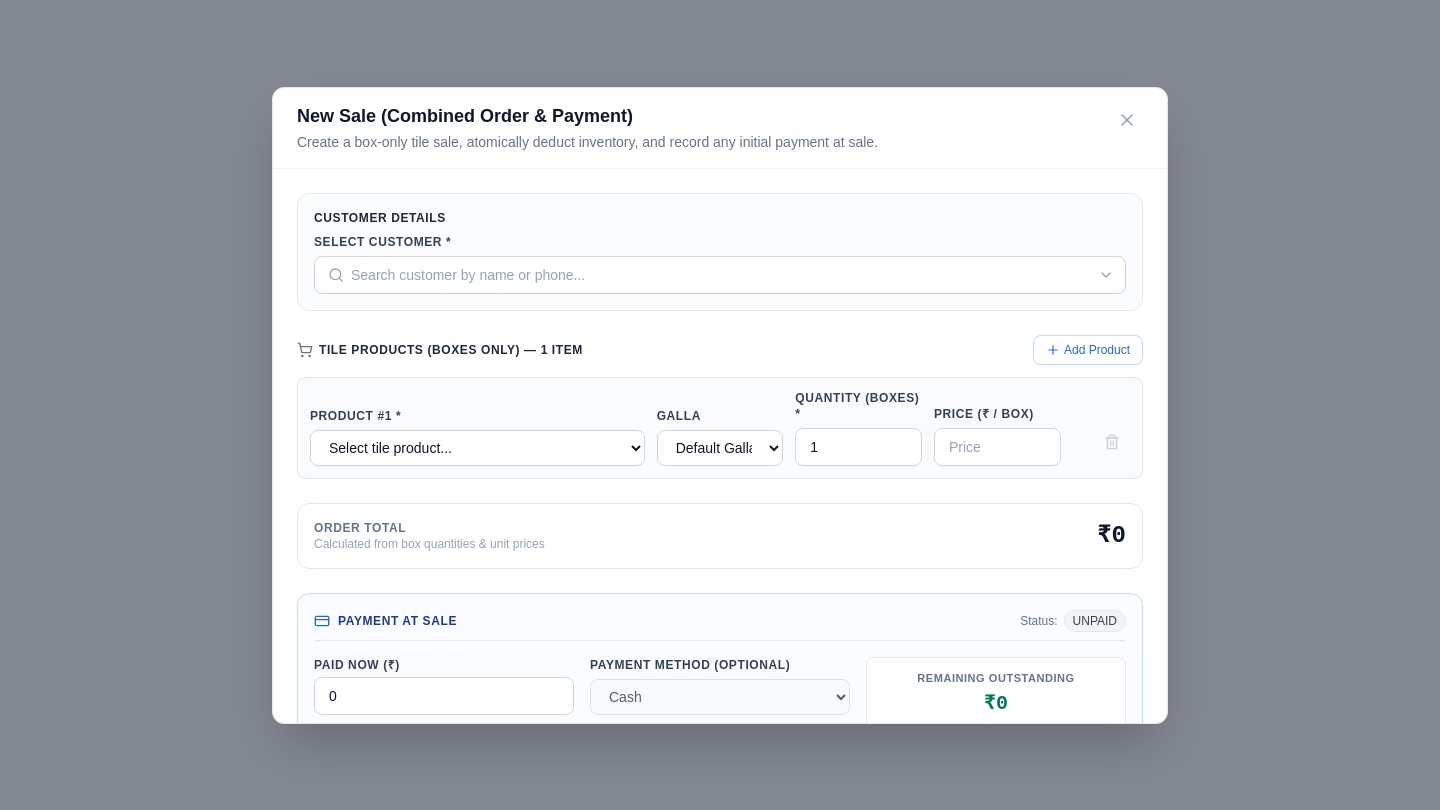
OrderCreateModal Component › Customer Searchable Select UX › selects filtered customer on click and updates field
In the dropdown labelled "Select Customer *": point(720, 274) [314, 256, 1126, 294], type "verma"
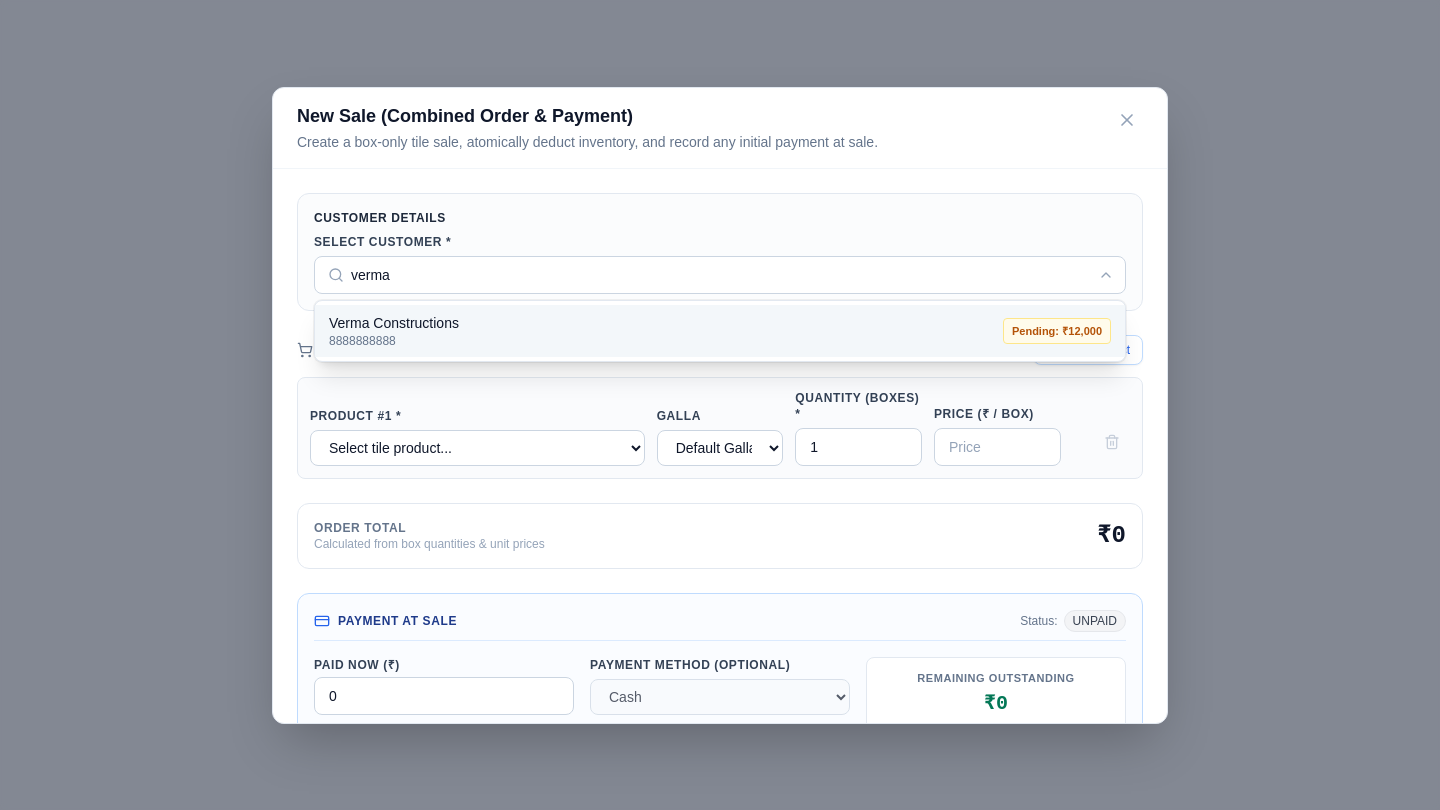
Click the text "Verma Constructions": point(394, 322) [329, 312, 459, 332]
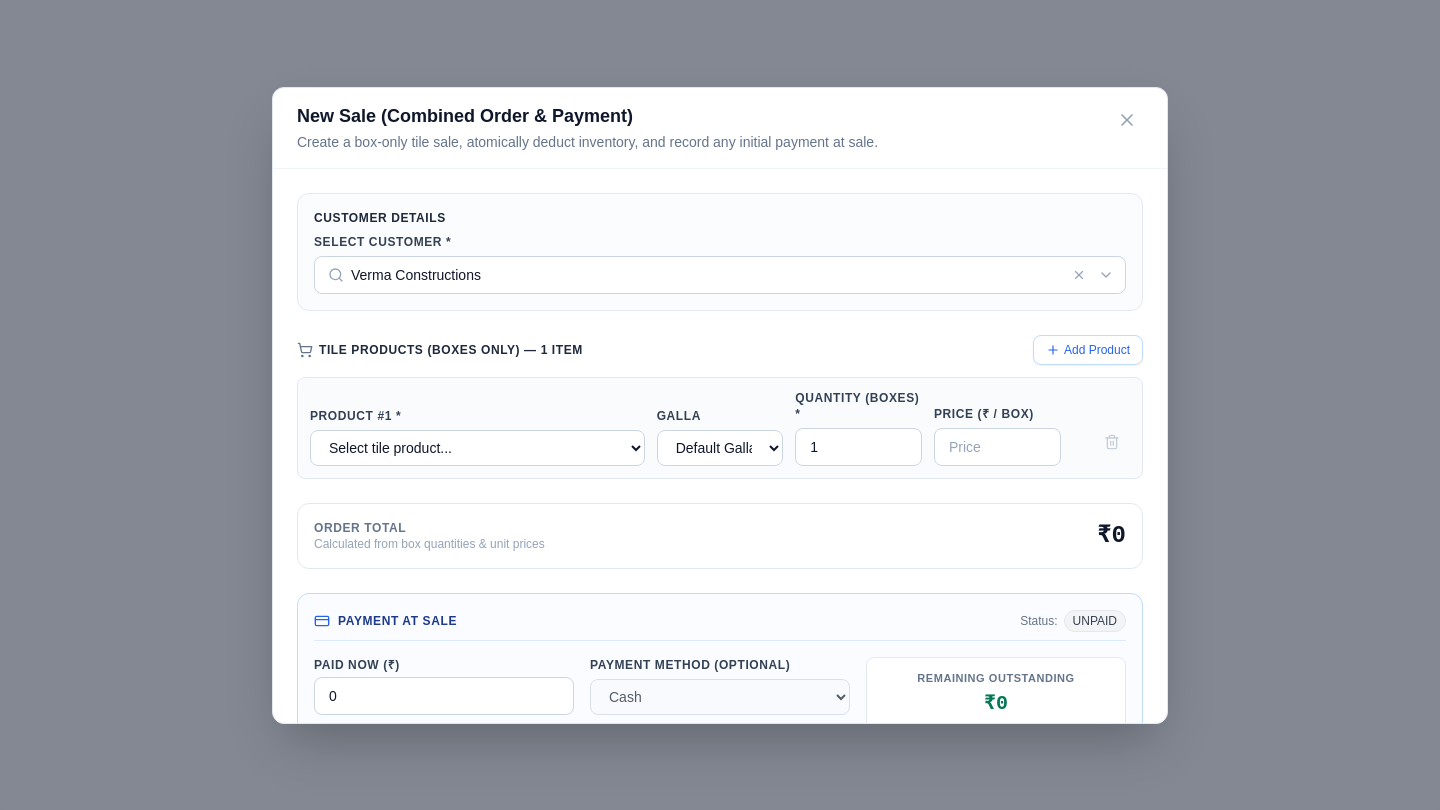
Result: the dropdown labelled "Select Customer *" holds "Verma Constructions" at [314, 256, 1126, 294]
